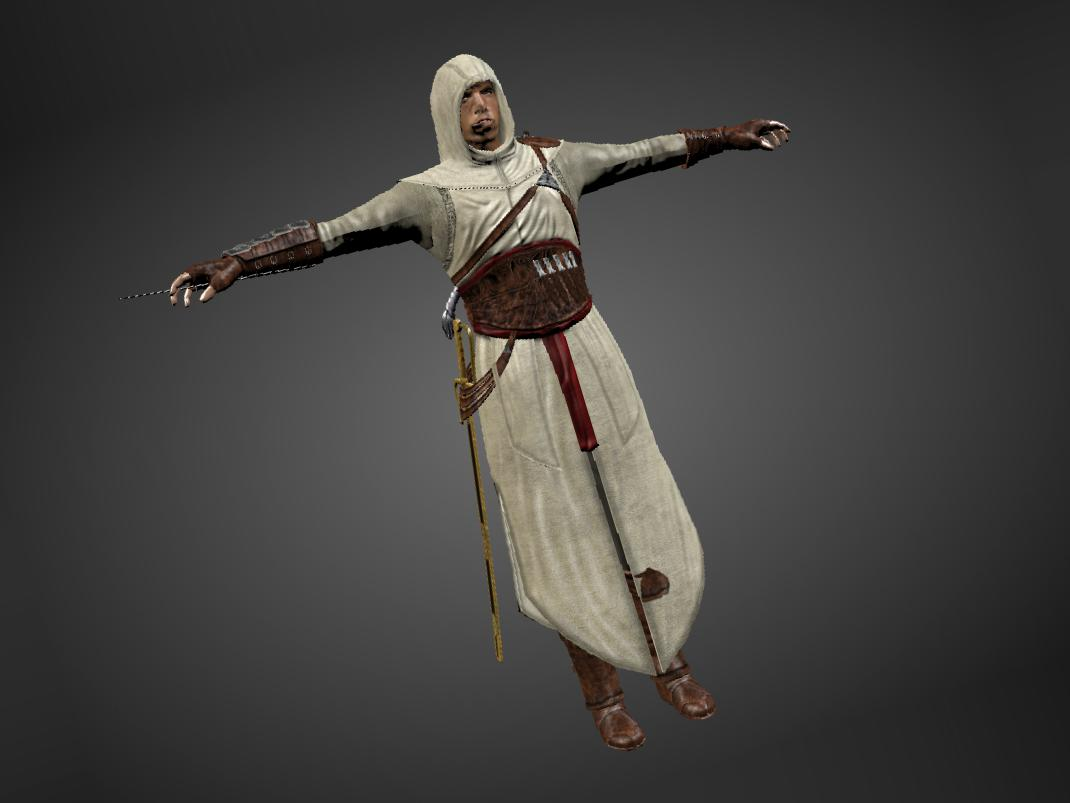clip: (637, 563, 675, 606)
